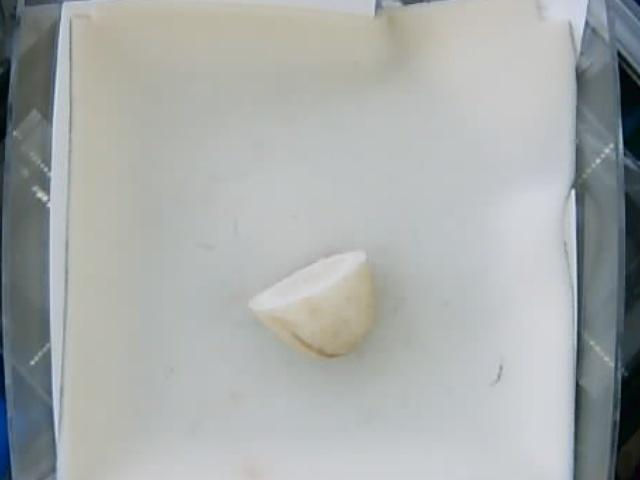Mooli: (246, 249, 375, 358)
